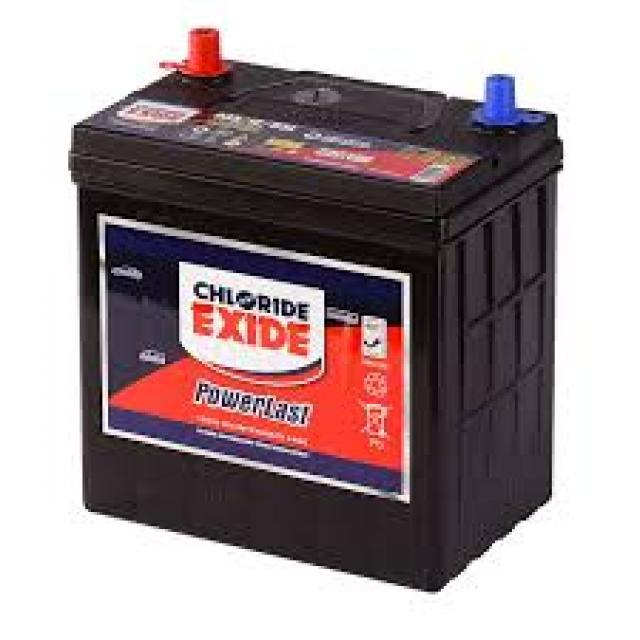battery: (67, 28, 562, 594)
